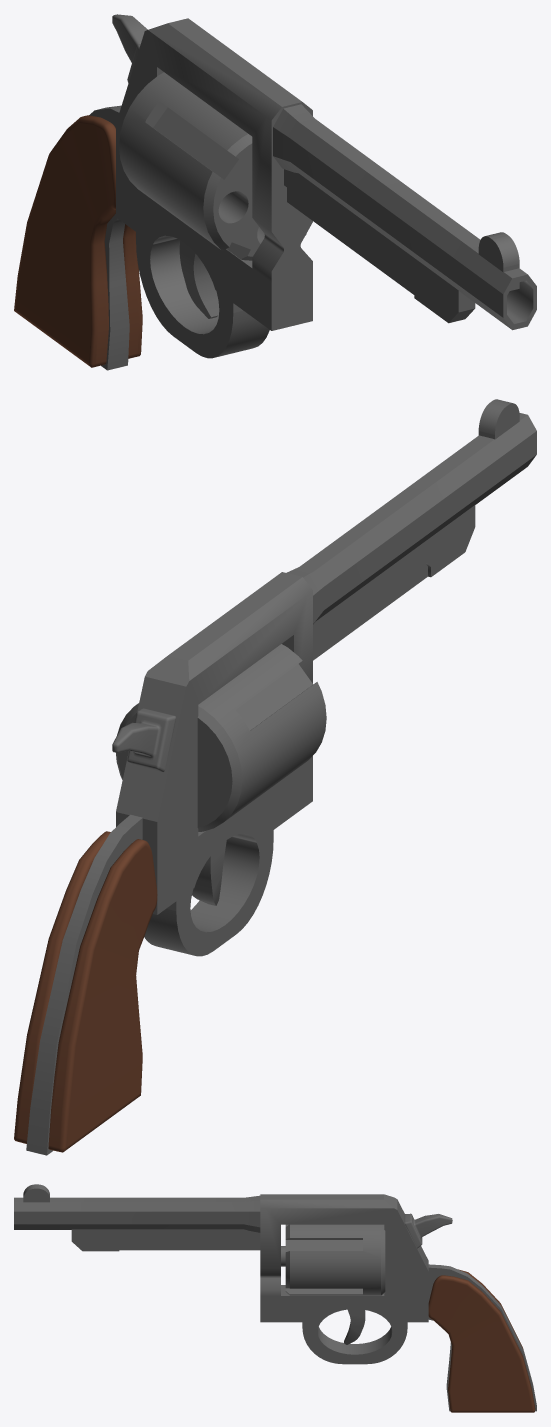
The model's file is M1917 Revolver.fbx.
3 views of the same model, one above another, from view 1: azimuth 30°, elevation 25°; view 2: azimuth 150°, elevation 25°; view 3: azimuth 270°, elevation 25° (orthographic). The views are drawn at different scales.
Visible parts, largest first — view 1: Cube, Cube.002, Cube.005, Cylinder, Cube.004, Cube.001, Cube.007, Cube.006, Plane; view 2: Cube, Cube.002, Cylinder, Cube.005, Cube.001, Cube.004, Plane, Cube.007, Cube.006; view 3: Cube, Cube.002, Cube.005, Cylinder, Cube.004, Cube.001, Plane, Cube.007, Cube.006.
Boxes of the visible parts, x1,y1,x2,y2 form: Cube: [116, 18, 312, 358]; Cube.002: [14, 115, 142, 367]; Cube.005: [273, 104, 536, 330]; Cylinder: [119, 72, 306, 260]; Cube.004: [284, 169, 475, 323]; Cube.001: [89, 105, 129, 370]; Cube.007: [179, 240, 219, 318]; Cube.006: [478, 232, 519, 290]; Plane: [112, 14, 147, 83]; Cube: [116, 572, 312, 956]; Cube.002: [14, 831, 157, 1152]; Cylinder: [116, 644, 326, 831]; Cube.005: [286, 412, 536, 624]; Cube.001: [26, 814, 142, 1155]; Cube.004: [313, 505, 475, 660]; Plane: [112, 708, 176, 771]; Cube.007: [192, 840, 226, 905]; Cube.006: [478, 399, 519, 439]; Cube: [260, 1194, 428, 1364]; Cube.002: [428, 1269, 535, 1412]; Cube.005: [14, 1195, 260, 1232]; Cylinder: [281, 1224, 385, 1295]; Cube.004: [71, 1229, 260, 1251]; Cube.001: [428, 1264, 536, 1411]; Plane: [404, 1213, 452, 1248]; Cube.007: [344, 1309, 365, 1344]; Cube.006: [23, 1184, 49, 1202].
Bounding box in the file's own units: 22.58 × 69.77 × 149.
